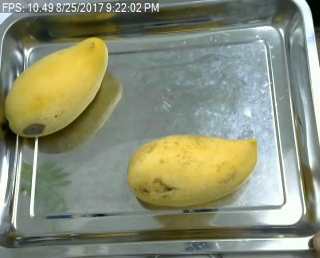Mango: (5, 36, 109, 139), (126, 133, 258, 209)
